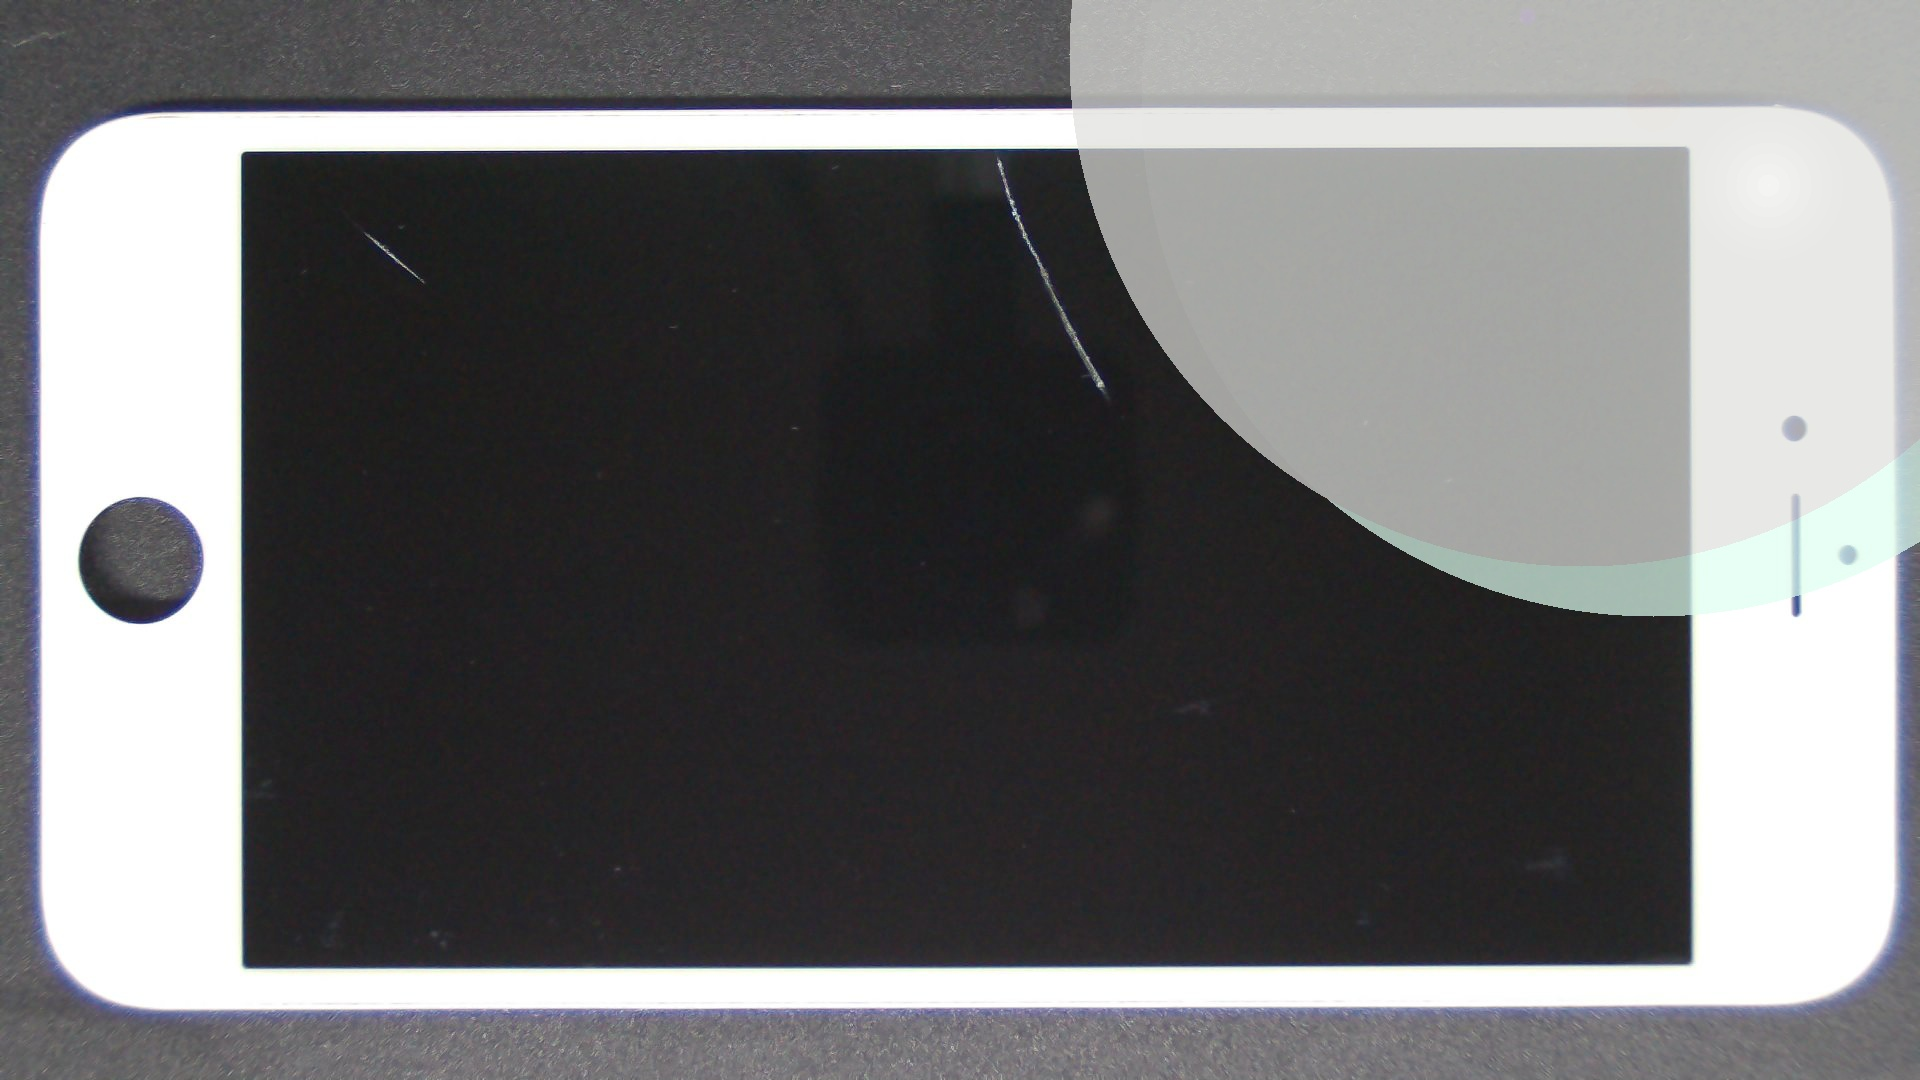oil: (500, 76, 1497, 232), (182, 115, 545, 345)
